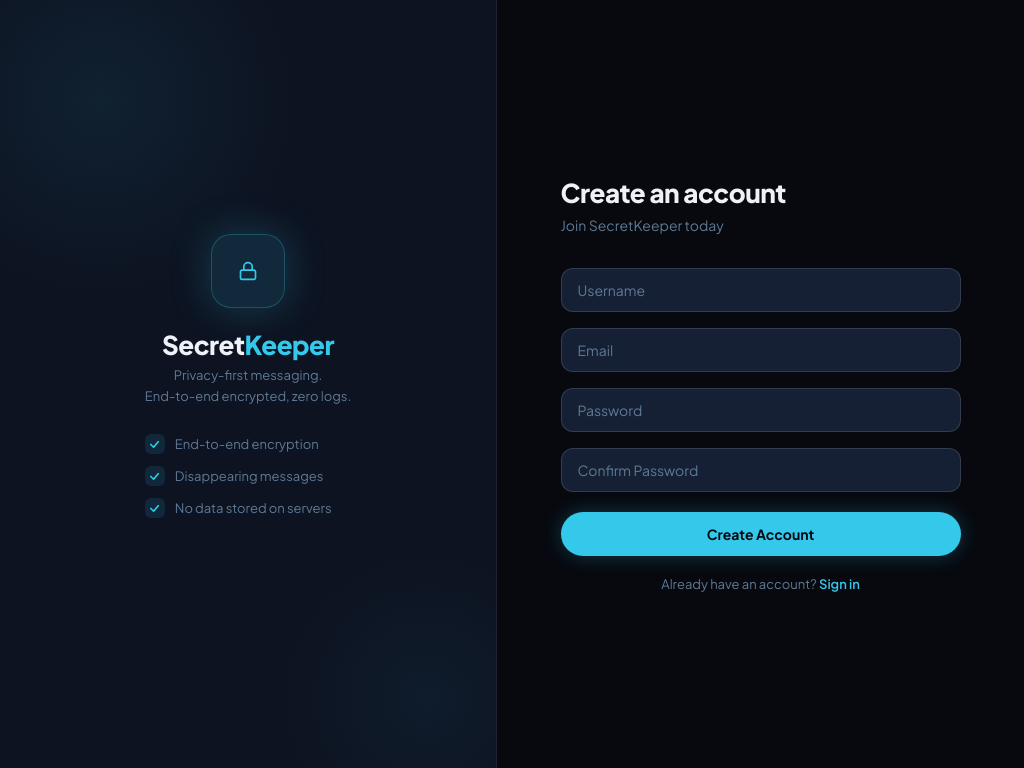
Scenario: Signup success flow › accepts valid credentials and shows success
Type "Alin_Dobra" into the field with id "username" at (761, 290), box [561,268,961,312]
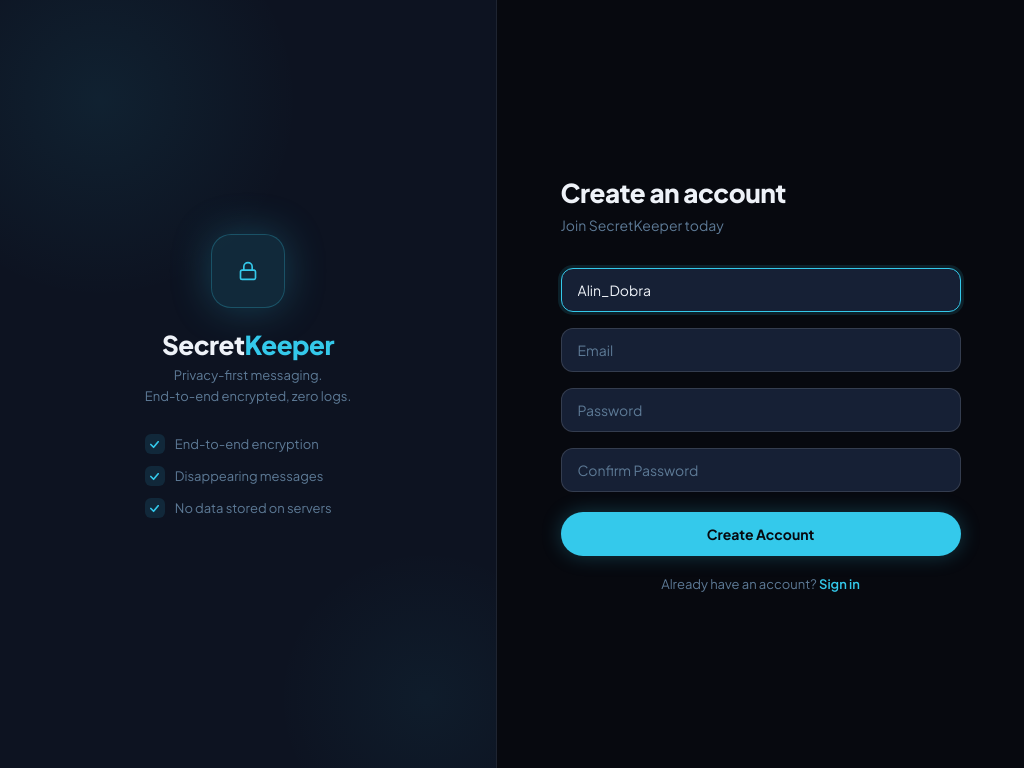
Type "alindobra@secretkeeper.com" into the field with id "email" at (761, 350), box [561,328,961,372]
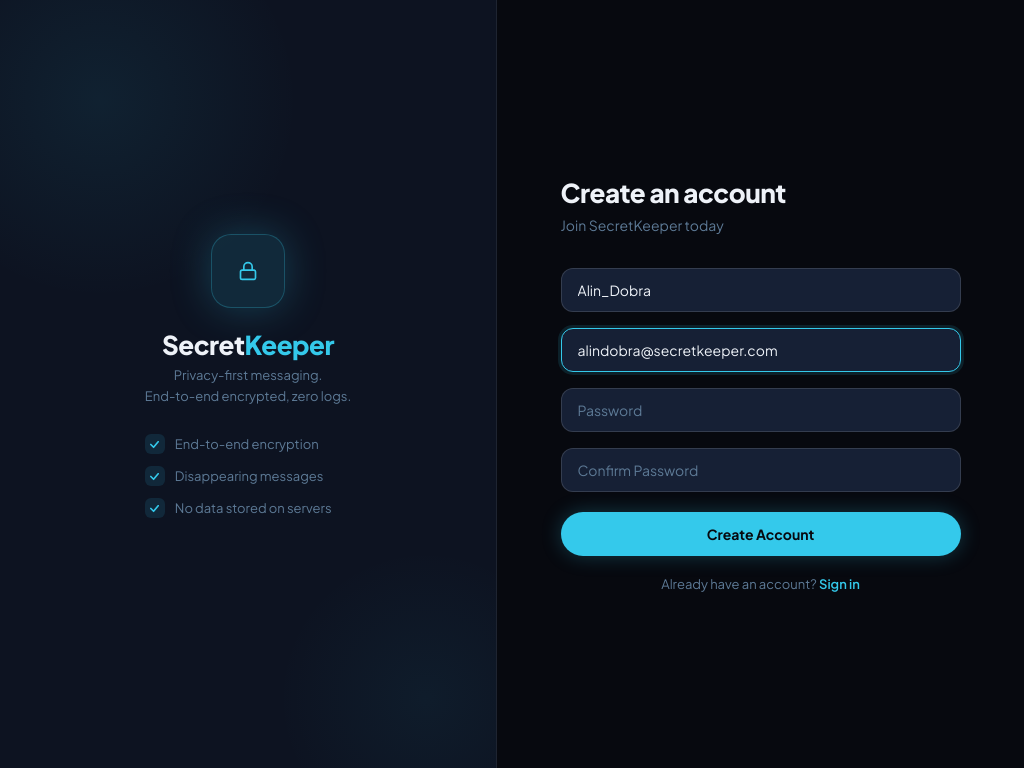
Type "SecurePass123" into the password field with placeholder "Password" at (761, 410), box [561,388,961,432]
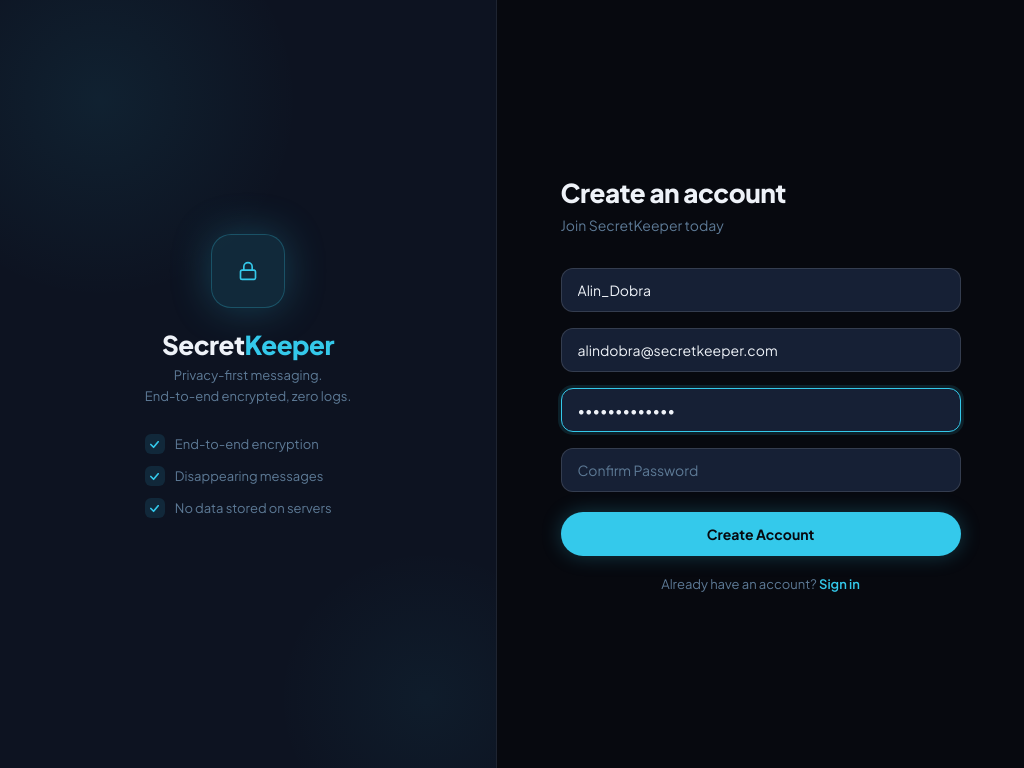
Type "SecurePass123" into the password field with id "confirmPassword" at (761, 470), box [561,448,961,492]
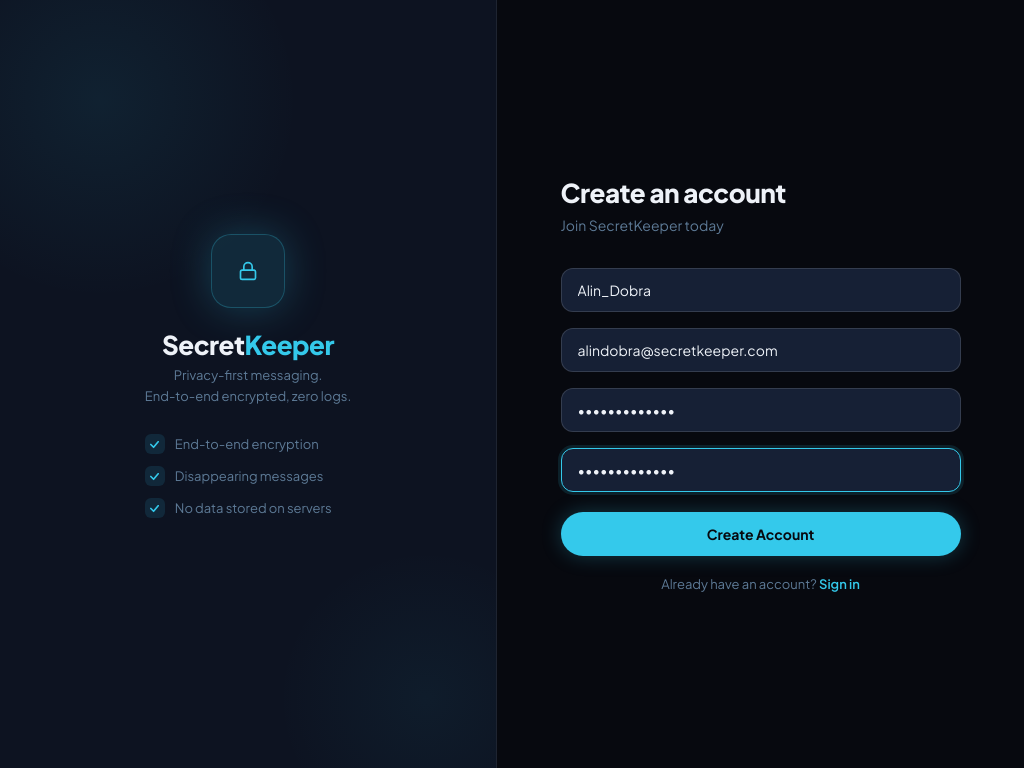
Click the button with class "signup-button" at (761, 534), box [561,512,961,556]
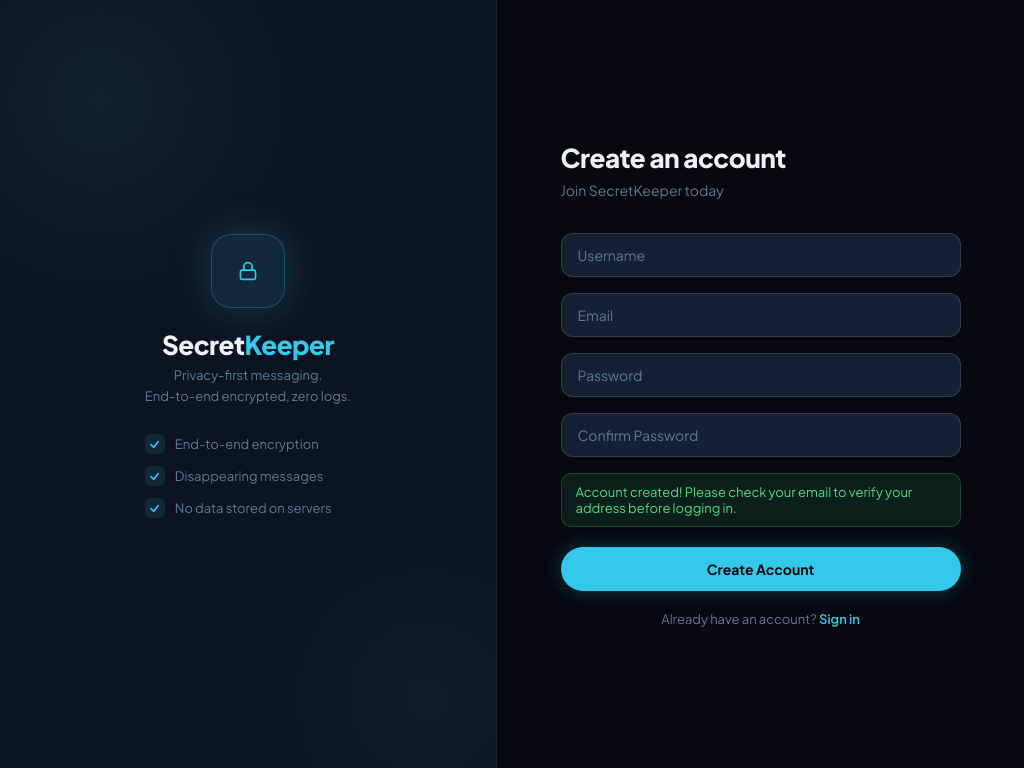
Now the text with class "success" shows "Account created", box [576,484,913,516]
